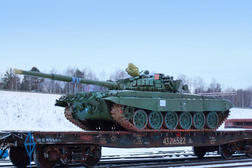t72: (13, 66, 231, 131)
